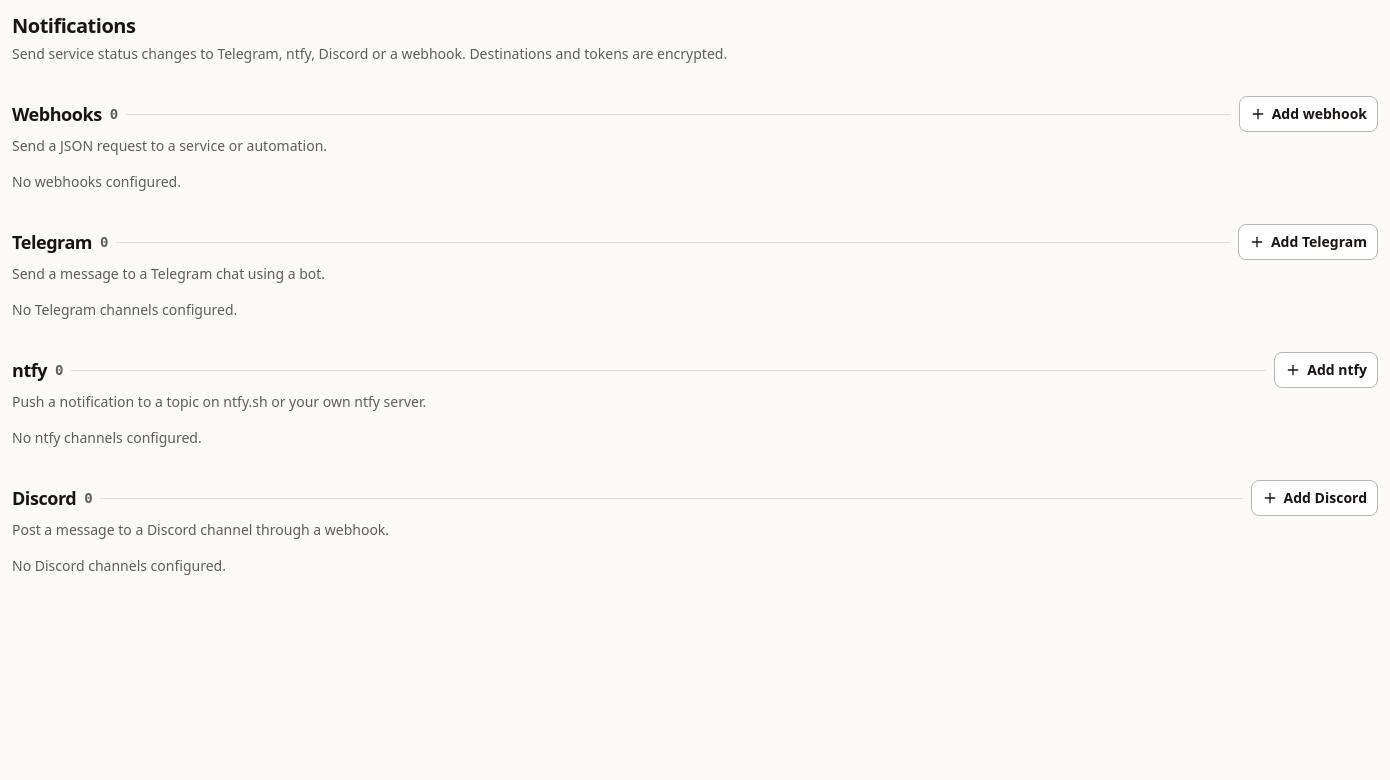
creates a webhook without displaying its saved destination
Expected: the text "No webhooks configured." is shown, [12,172,181,191]
Expected: the text "No Telegram channels configured." is shown, [12,300,237,319]
Click the button "Add webhook": (1308, 114) [1239,96,1378,132]
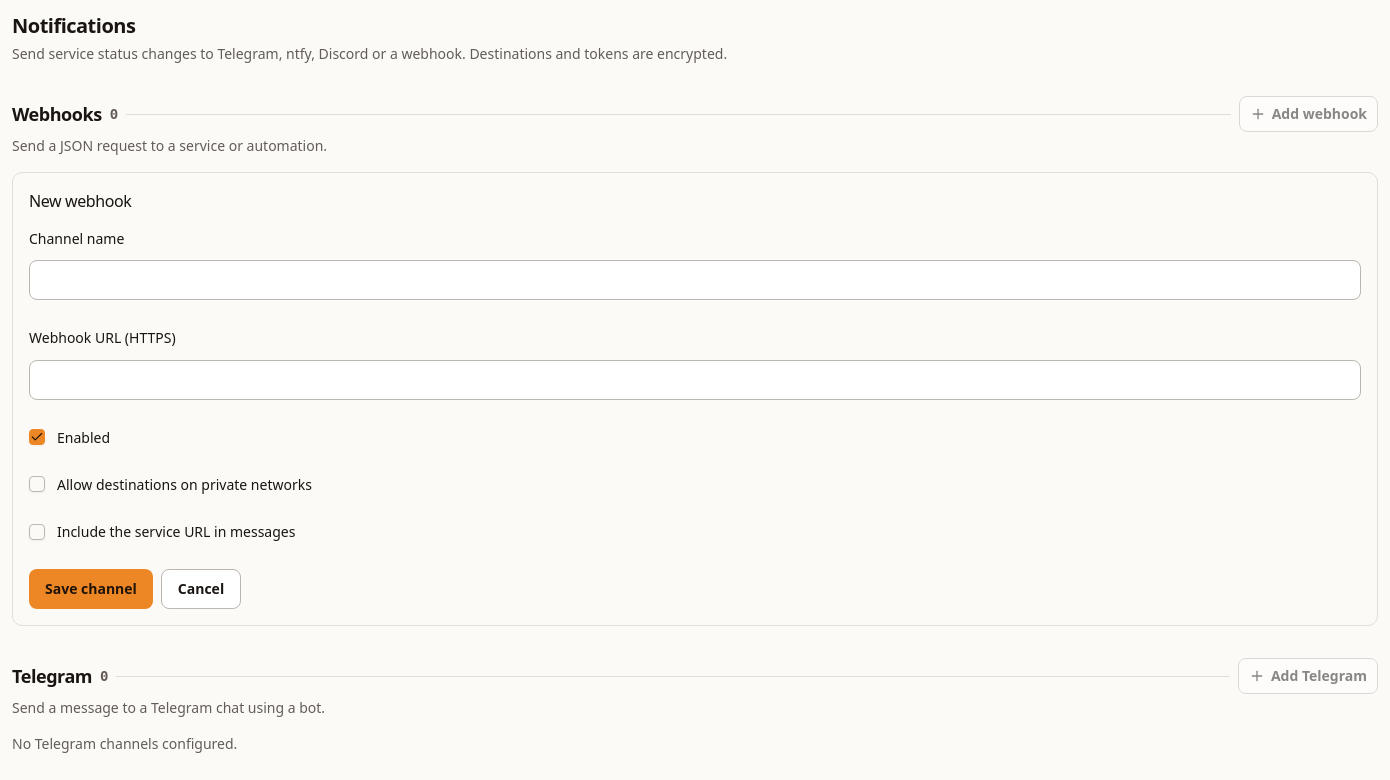
In the field labelled "Channel name": (695, 280) [29,260,1361,300], type "Alerts"
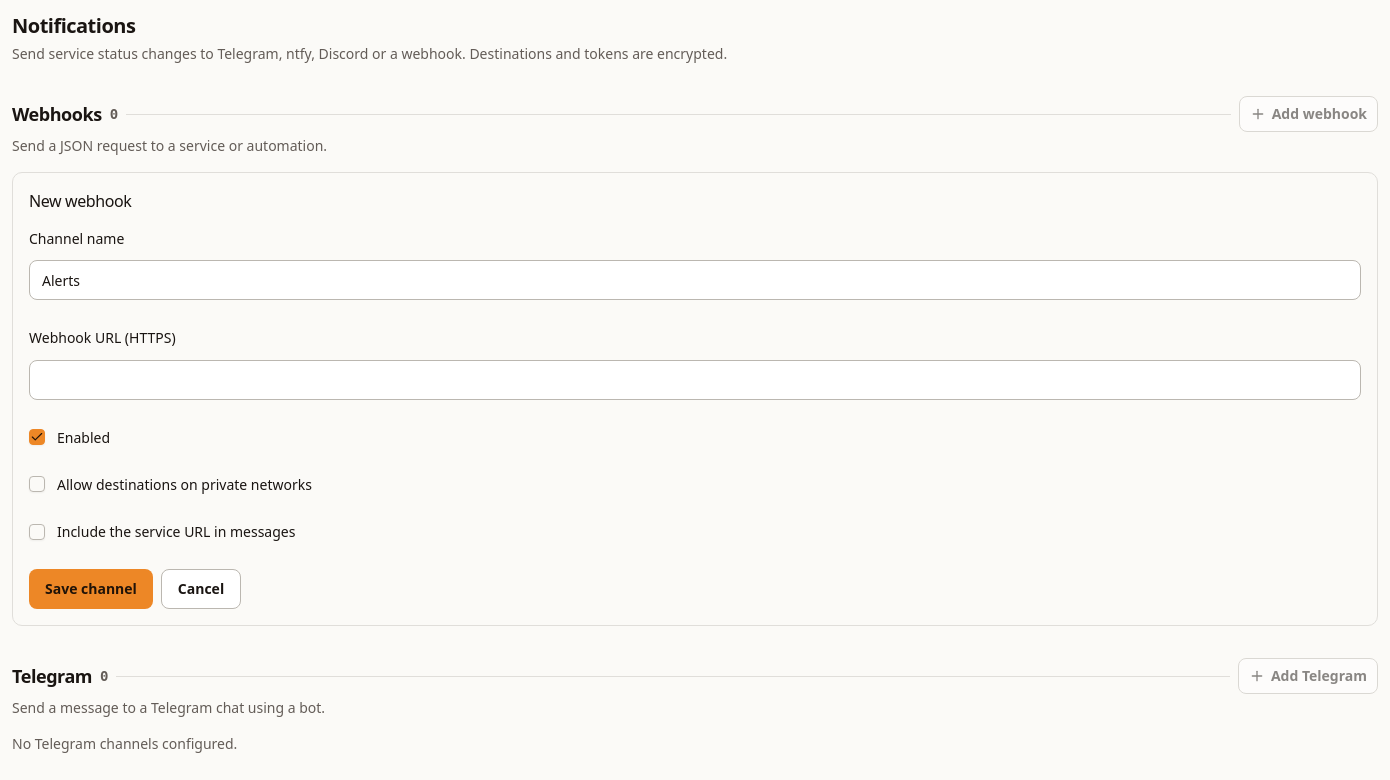
In the password field labelled "Webhook URL (HTTPS)": (695, 380) [29,360,1361,400], type "https://hooks.example/secret"
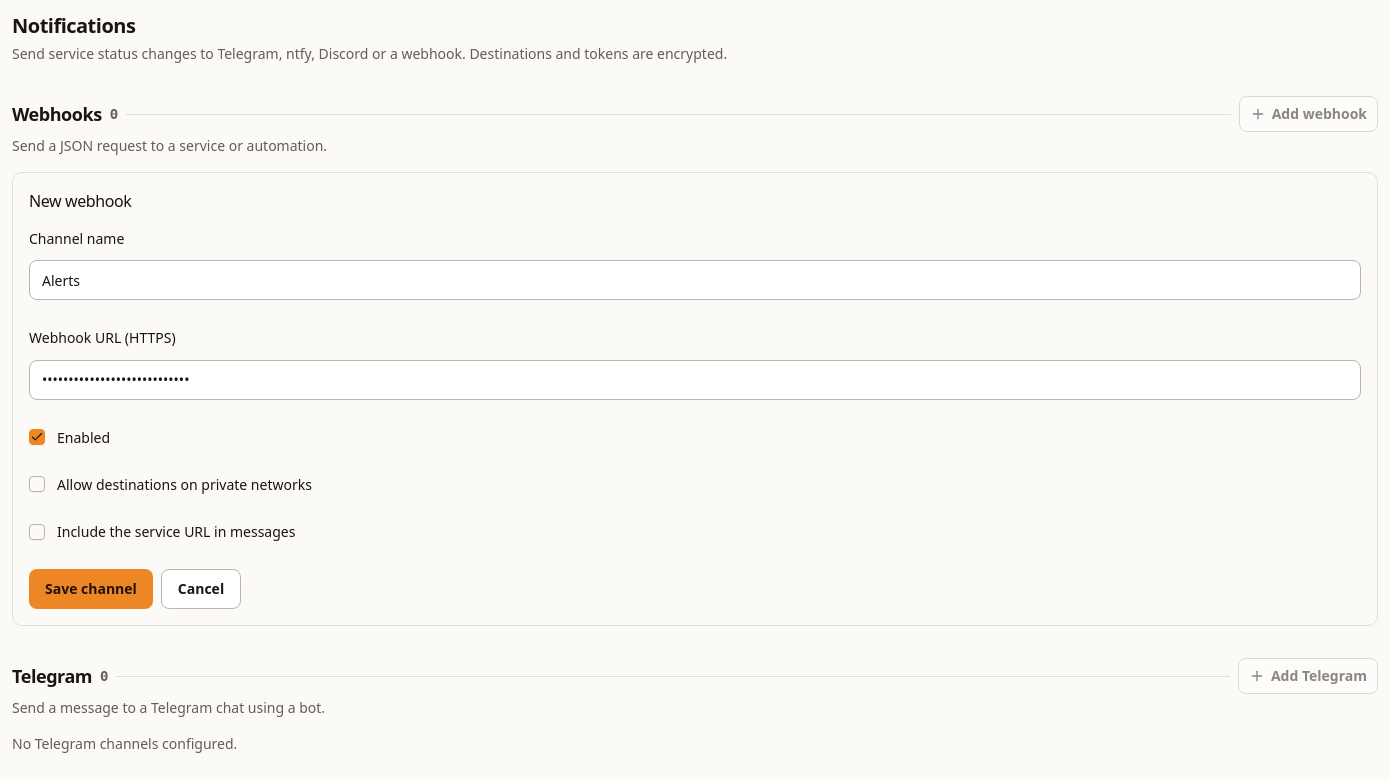
Click the button "Save channel": (91, 589) [29,569,153,609]
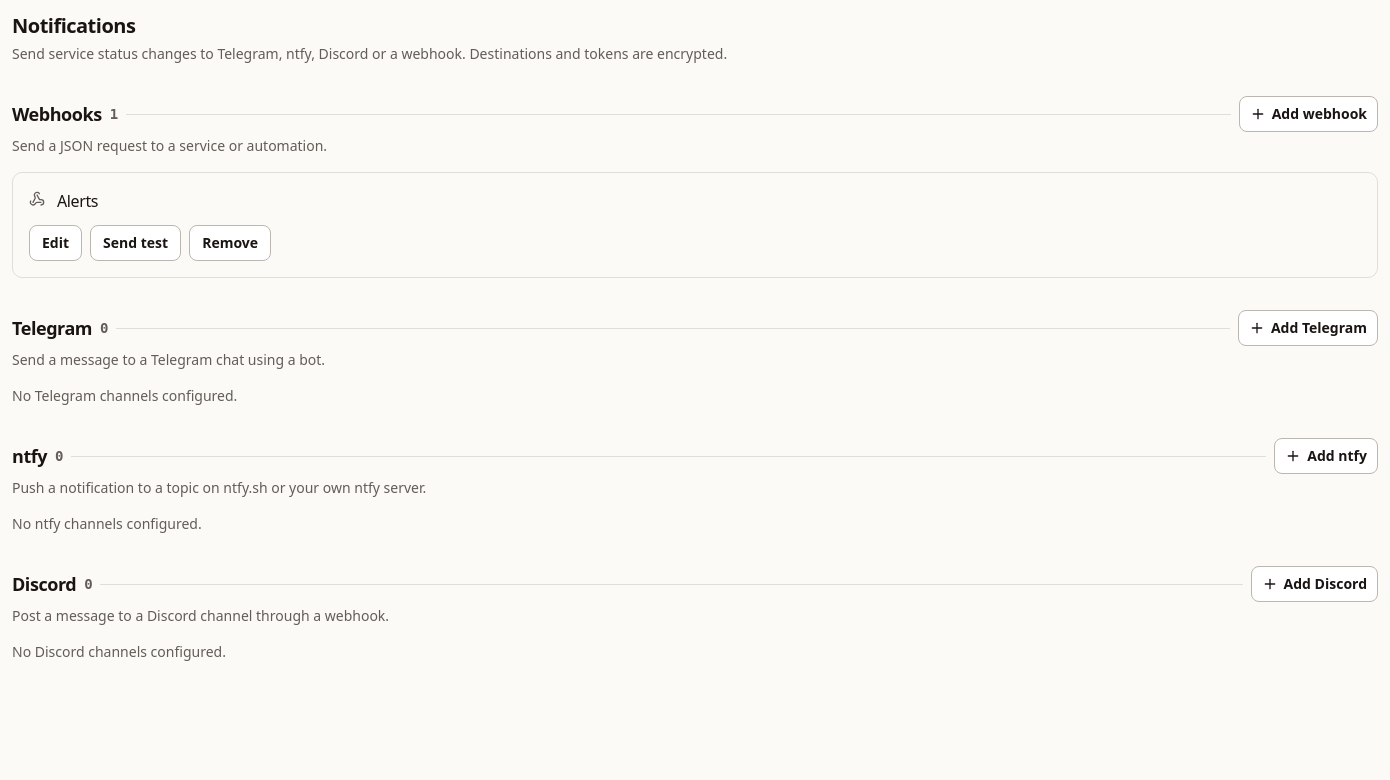
Expected: the heading "Alerts" is shown, [57,189,98,213]
Expected: the label labelled "Webhook URL (HTTPS)" is gone
